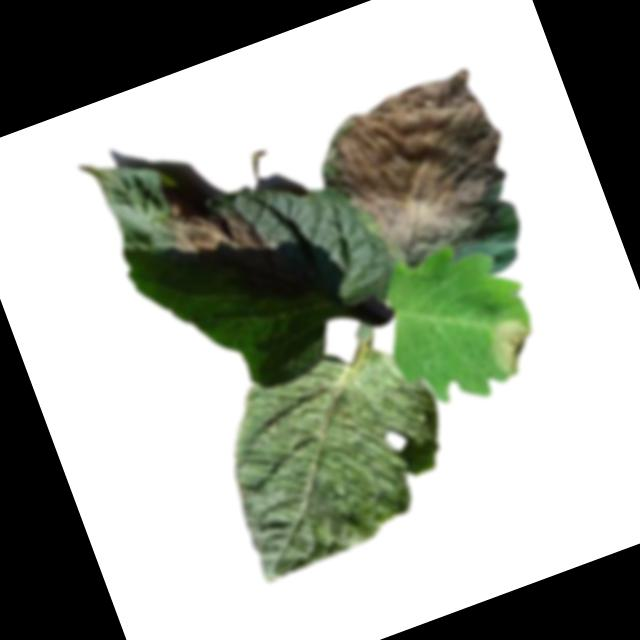Late_blight: (312, 61, 533, 281), (150, 154, 269, 278), (482, 311, 545, 381)
